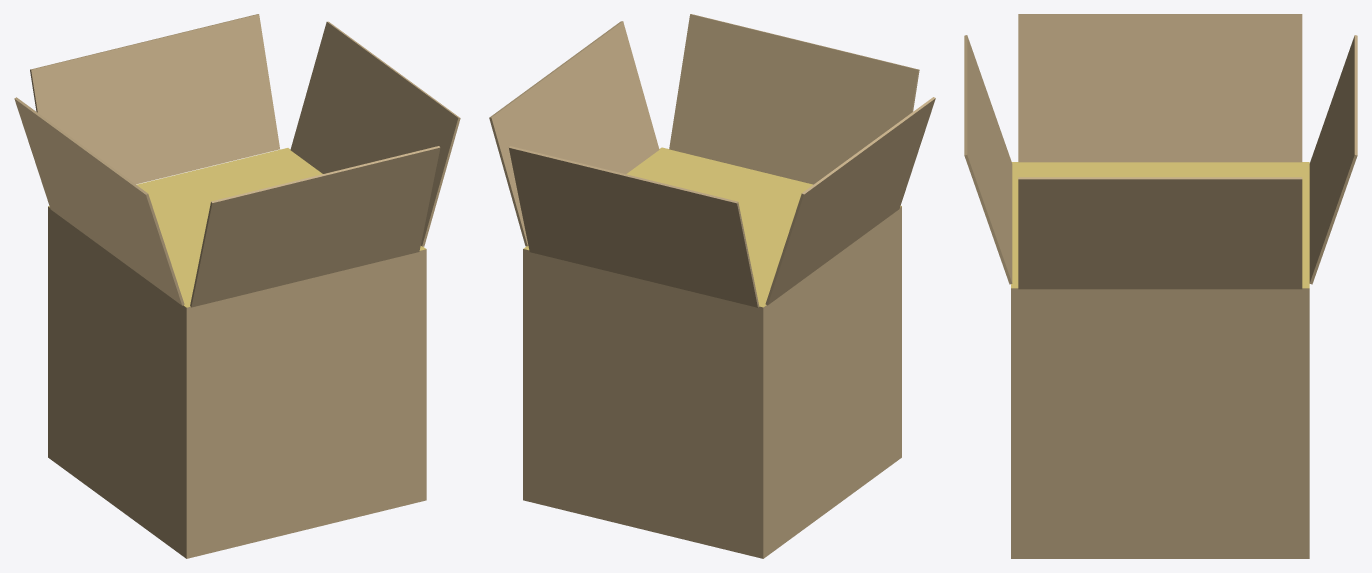
File: blanada19_CardboardBoxOpen.fbx
The picture shows the model from 3 angles, left to right: view 1: azimuth 30°, elevation 25°; view 2: azimuth 150°, elevation 25°; view 3: azimuth 270°, elevation 25°; orthographic projection. The views are drawn at different scales.
Visible parts, largest first — view 1: pCube1, pCube6, pCube3, pCube5, pCube2; view 2: pCube1, pCube3, pCube6, pCube5, pCube2; view 3: pCube1, pCube2, pCube5, pCube3, pCube6.
Part boxes in pixels (x1=…): pCube1: x1=48, y1=148, x2=426, y2=558; pCube6: x1=30, y1=14, x2=279, y2=184; pCube3: x1=190, y1=146, x2=440, y2=307; pCube5: x1=290, y1=21, x2=460, y2=246; pCube2: x1=14, y1=97, x2=184, y2=305; pCube1: x1=523, y1=147, x2=901, y2=558; pCube3: x1=669, y1=14, x2=919, y2=184; pCube6: x1=509, y1=146, x2=759, y2=307; pCube5: x1=489, y1=21, x2=659, y2=246; pCube2: x1=765, y1=97, x2=935, y2=305; pCube1: x1=1011, y1=162, x2=1309, y2=558; pCube2: x1=1018, y1=14, x2=1302, y2=162; pCube5: x1=1018, y1=177, x2=1302, y2=289; pCube3: x1=964, y1=35, x2=1012, y2=284; pCube6: x1=1309, y1=35, x2=1357, y2=284.
Size of the model in its own units: 1.31 by 1.48 by 1.32.
